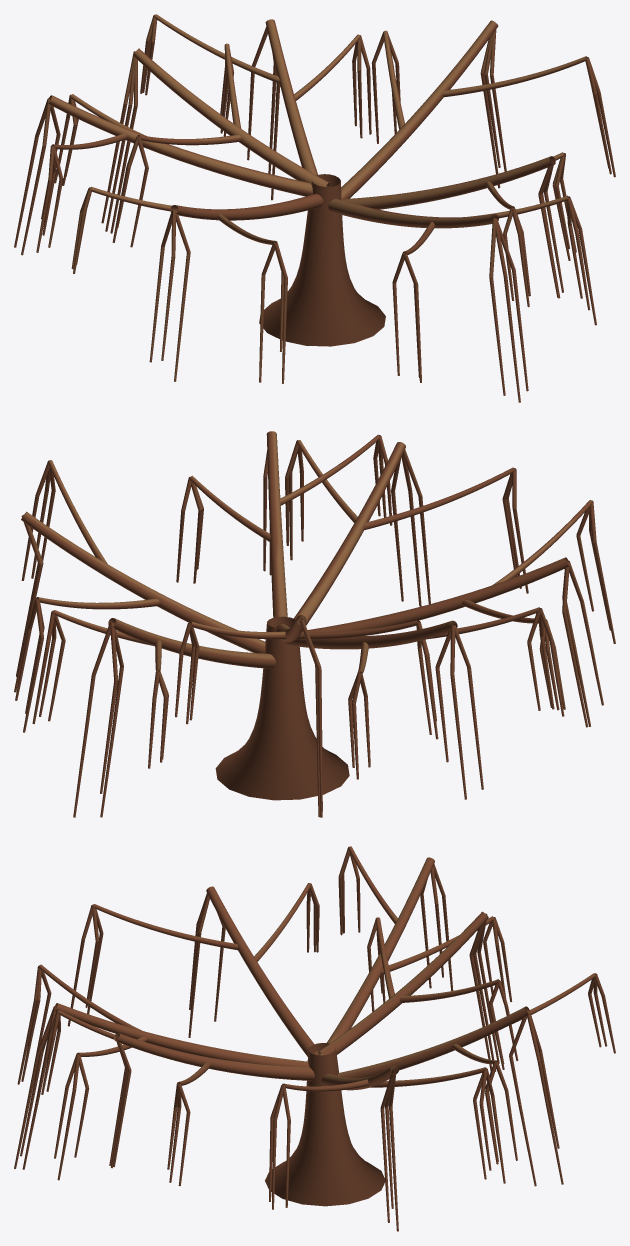
Rendered from colony-tree-bark.obj.
The picture shows the model from 3 angles, top to bottom: view 1: azimuth 30°, elevation 25°; view 2: azimuth 150°, elevation 25°; view 3: azimuth 270°, elevation 25°; orthographic projection. The views are drawn at different scales.
Parts seen in each view (by area): view 1: bark; view 2: bark; view 3: bark.
Part boxes in pixels (bbox=[...]): bark: bbox=[14, 14, 615, 402]; bark: bbox=[14, 431, 615, 817]; bark: bbox=[14, 846, 615, 1231].
Size of the model in its own units: 894 by 372 by 906.
